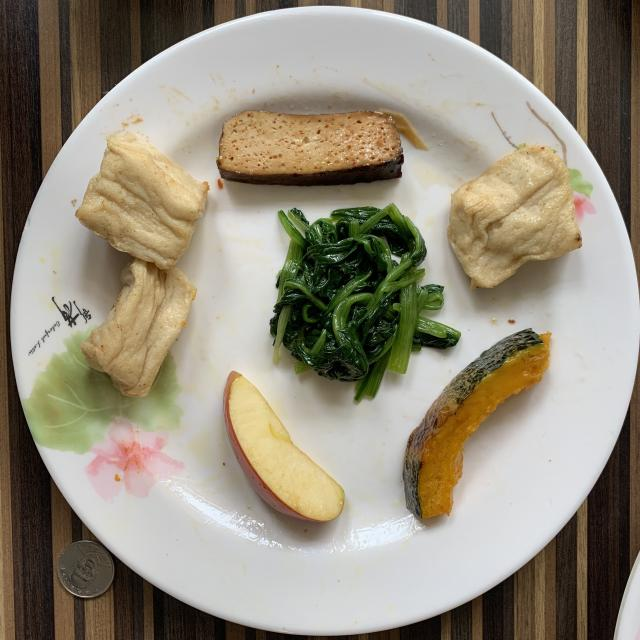apple -sliced-: (224, 371, 344, 521)
coin: (58, 541, 115, 599)
creamy tofu -without sauce-: (76, 131, 209, 396), (448, 145, 581, 290)
firm tofu: (218, 110, 404, 185)
mustard greens: (270, 204, 460, 401)
pumpkin: (402, 329, 551, 518)
